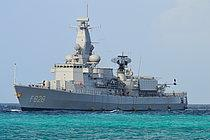MIL_Ship: (12, 17, 189, 111)
